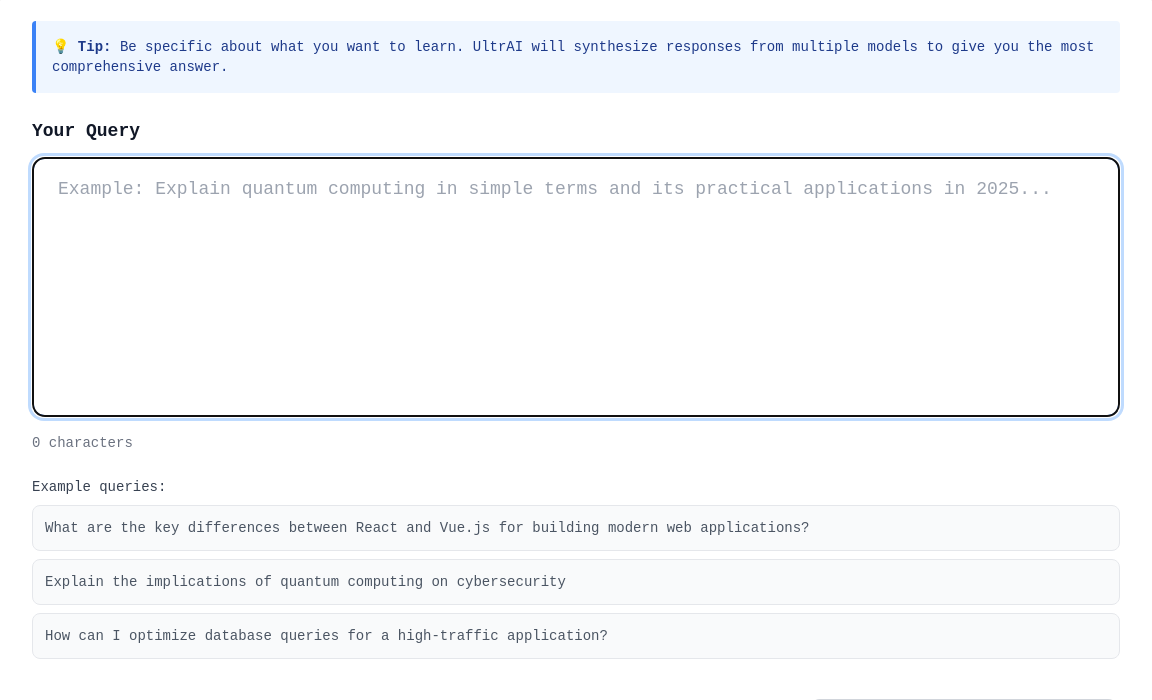
Test: Step1QueryInput Component › should enable Next button when query is entered
The image size is (1152, 700).
Replace the text in the text box labelled "Your Query" with "My test query": (576, 287) [32, 157, 1120, 417]
(page scrolled)
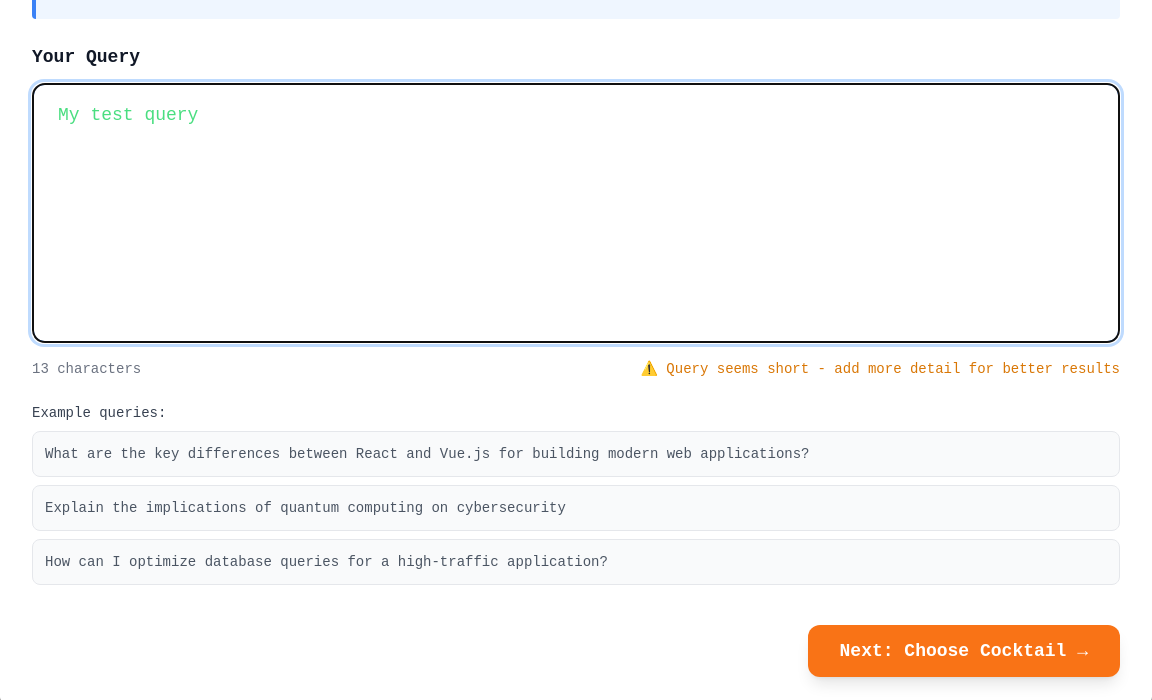
expect the button "Next: Choose Cocktail →" is enabled: met, box [808, 625, 1120, 677]
